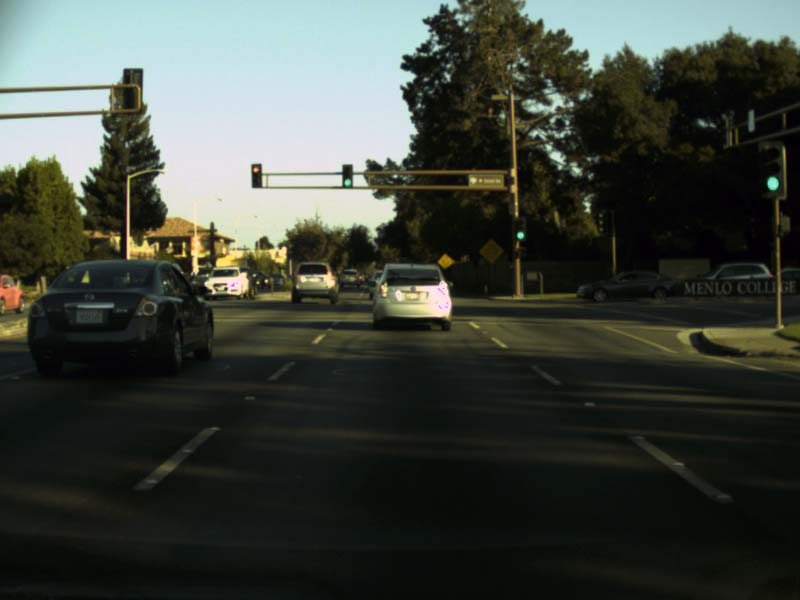Green: (756, 141, 786, 197), (512, 215, 526, 241), (341, 163, 352, 187)
Red: (250, 163, 262, 187)
